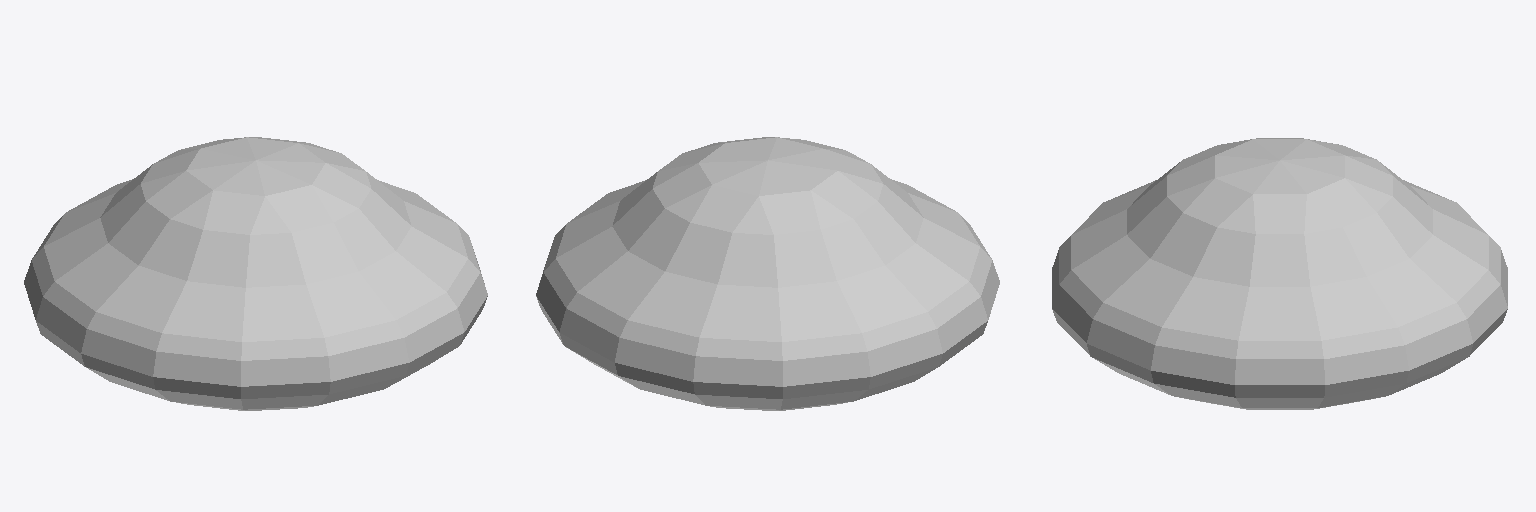
Rendered from Bush_3_C_Color1.obj.
The picture shows the model from 3 angles: view 1: azimuth 30°, elevation 25°; view 2: azimuth 150°, elevation 25°; view 3: azimuth 270°, elevation 25°; orthographic projection.
Parts seen in each view (by area): view 1: Bush_3_C_Color1; view 2: Bush_3_C_Color1; view 3: Bush_3_C_Color1.
Boxes of the visible parts, x1,y1,x2,y2 form: Bush_3_C_Color1: [24, 137, 487, 410]; Bush_3_C_Color1: [536, 137, 999, 410]; Bush_3_C_Color1: [1052, 138, 1507, 409].
Bounding box in the file's own units: 2.49 × 1.15 × 2.49.